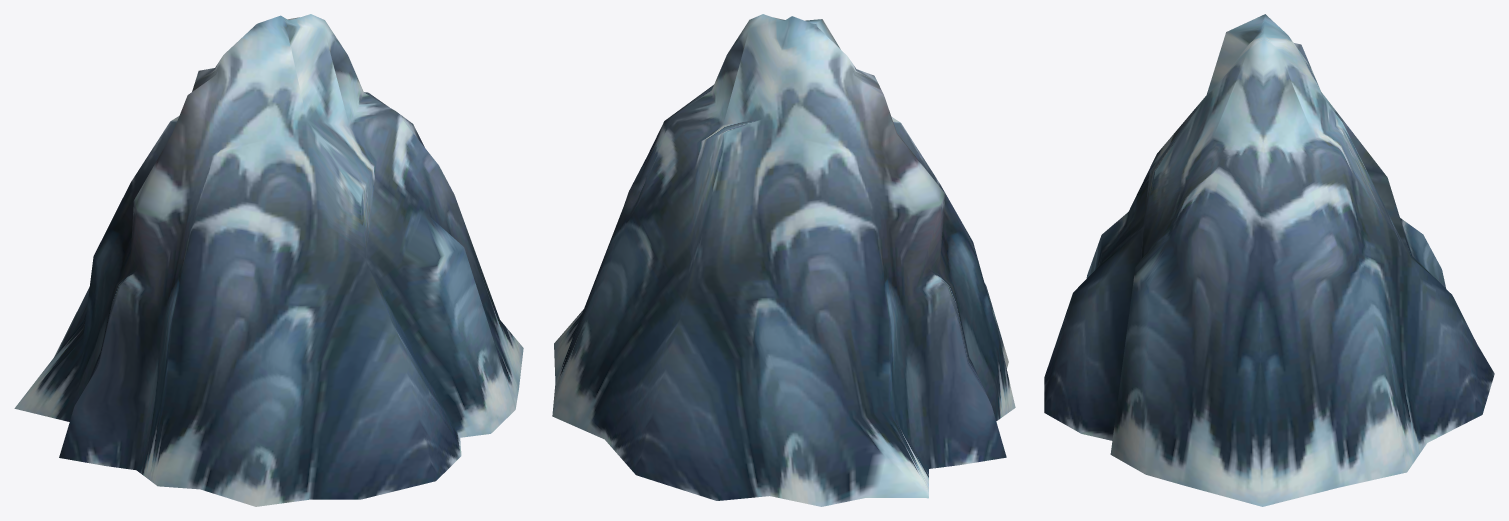
File: h5_xueshan_c.FBX
3 renders of one model, left to right at view 1: azimuth 30°, elevation 25°; view 2: azimuth 150°, elevation 25°; view 3: azimuth 270°, elevation 25°, orthographic. The views are drawn at different scales.
Parts seen in each view (by area): view 1: h5_xueshan_c; view 2: h5_xueshan_c; view 3: h5_xueshan_c.
Part boxes in pixels (bbox=[...]): h5_xueshan_c: bbox=[14, 14, 523, 506]; h5_xueshan_c: bbox=[552, 14, 1015, 506]; h5_xueshan_c: bbox=[1044, 14, 1494, 506].
Size of the model in its own units: 13.96 by 11.3 by 12.4.
